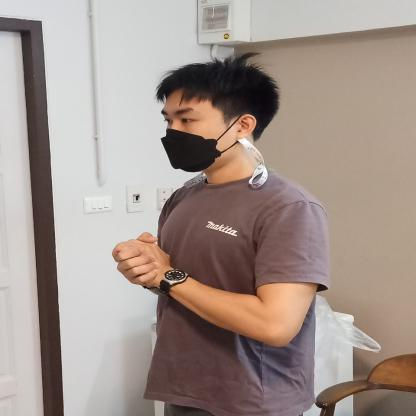Grieve: (103, 227, 263, 338)
